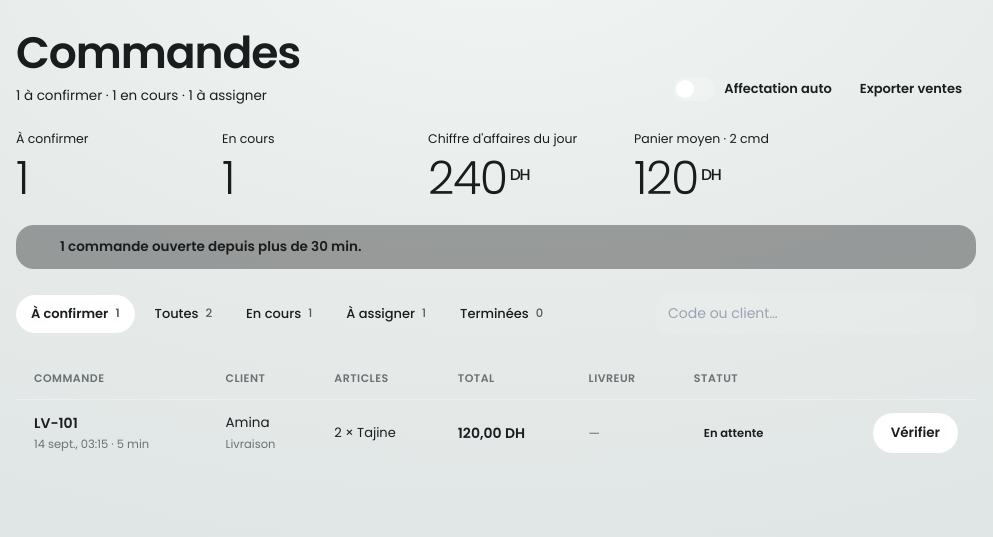
Test: OrdersAdminScreen › filtre par onglet puis par client
Click the button "Toutes 2". click: (183, 314)
box: [140, 295, 226, 333]
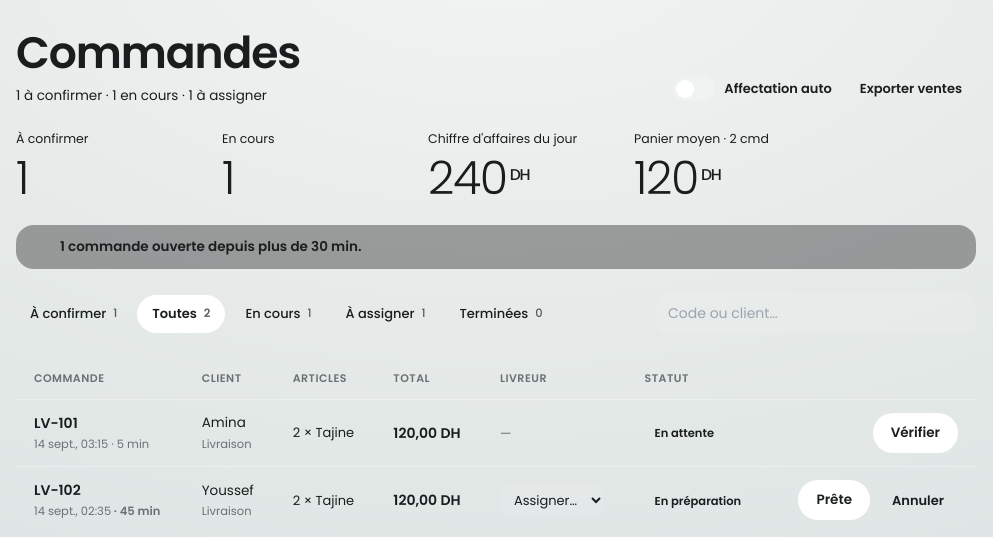
Expected: the text "LV-102" is shown, [34, 480, 81, 500]
Type "youss" into the search field named "Rechercher une commande". click: (816, 314)
box: [656, 293, 976, 334]
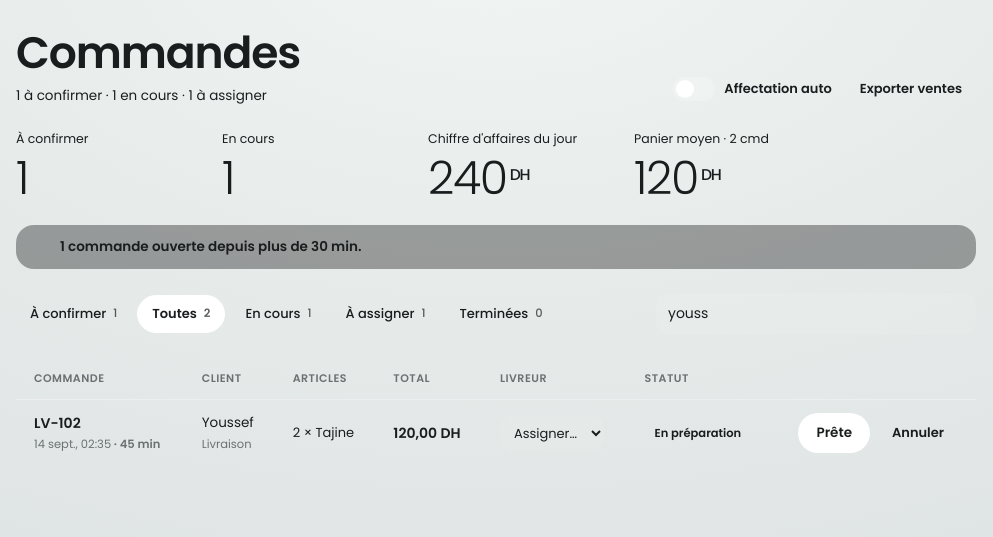
Expected: the button "Prête" is shown, [798, 413, 870, 453]
Expected: the text "LV-101" is gone
